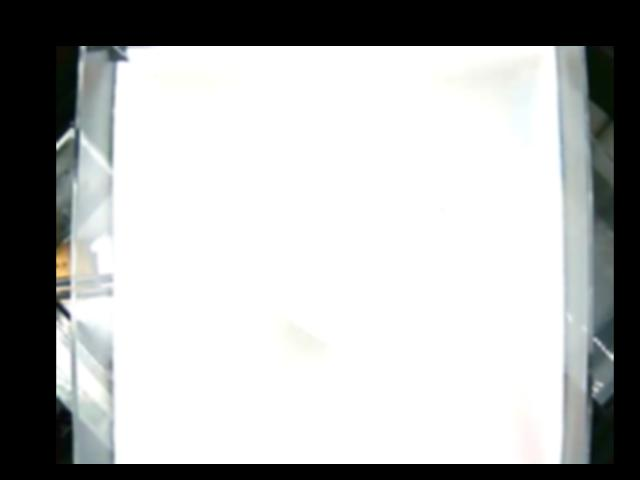Cup: (274, 183, 432, 351)
